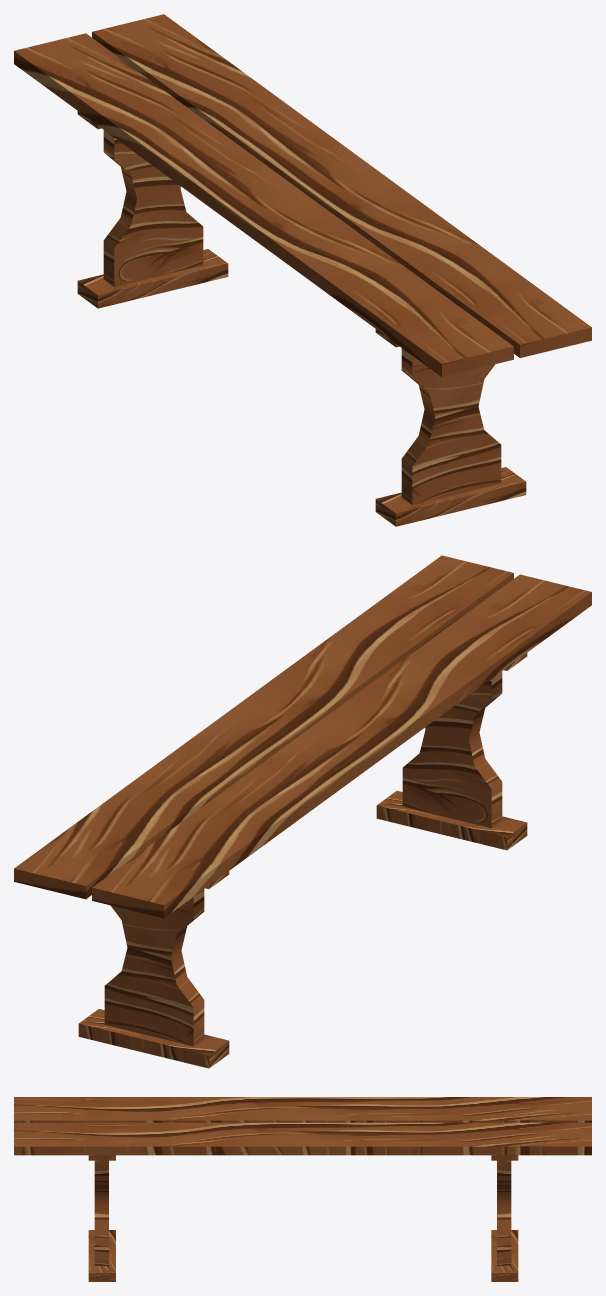
Rendered from bench.fbx.
3 renders of one model, top to bottom at view 1: azimuth 30°, elevation 25°; view 2: azimuth 150°, elevation 25°; view 3: azimuth 270°, elevation 25°, orthographic. The views are drawn at different scales.
Visible parts, largest first — view 1: pasted__pasted__pasted__pasted__pCube3; view 2: pasted__pasted__pasted__pasted__pCube3; view 3: pasted__pasted__pasted__pasted__pCube3.
Boxes of the visible parts, x1=… form: pasted__pasted__pasted__pasted__pCube3: x1=14, y1=14, x2=591, y2=526; pasted__pasted__pasted__pasted__pCube3: x1=14, y1=555, x2=591, y2=1068; pasted__pasted__pasted__pasted__pCube3: x1=14, y1=1097, x2=591, y2=1281.
Size of the model in its own units: 11.85 by 15.5 by 58.49.
